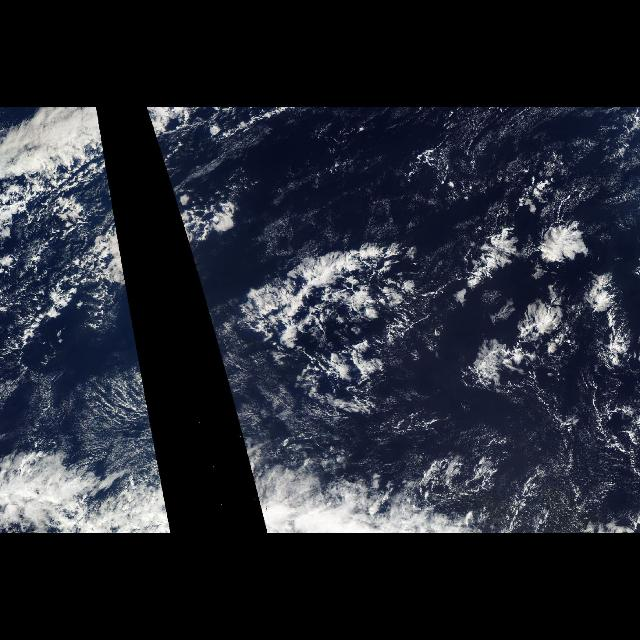Fish: (220, 242, 448, 350)
Flower: (268, 223, 640, 432)
Gravel: (0, 188, 132, 370)
Sugar: (219, 360, 631, 514), (260, 108, 640, 222), (9, 360, 169, 514)
